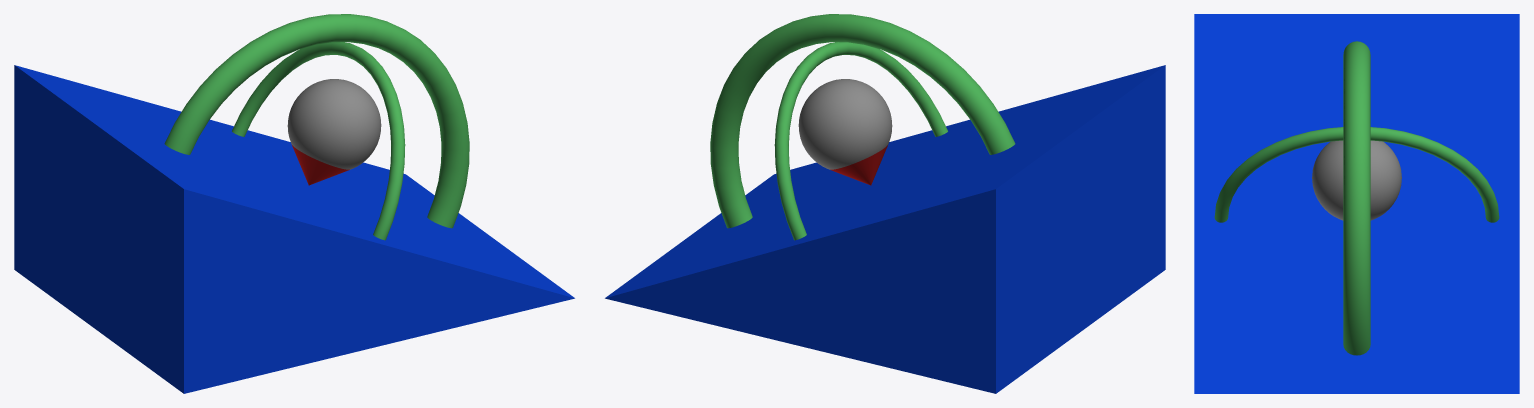
Rendered from Wedge_Torus_Cone_Sphere.glb.
3 views of the same model, side by side, from view 1: azimuth 30°, elevation 25°; view 2: azimuth 150°, elevation 25°; view 3: azimuth 270°, elevation 25° (orthographic). The views are drawn at different scales.
Visible parts, largest first — view 1: Part 8, Part 9, Part 10, Part 11; view 2: Part 8, Part 9, Part 10, Part 11; view 3: Part 8, Part 9, Part 10.
Part boxes in pixels (left/top/right/bottom): Part 8: left=14, top=65, right=574, bottom=393; Part 9: left=164, top=14, right=469, bottom=240; Part 10: left=287, top=79, right=381, bottom=169; Part 11: left=292, top=145, right=349, bottom=185; Part 8: left=605, top=65, right=1165, bottom=393; Part 9: left=710, top=14, right=1015, bottom=240; Part 10: left=798, top=79, right=892, bottom=169; Part 11: left=830, top=145, right=887, bottom=185; Part 8: left=1194, top=14, right=1519, bottom=393; Part 9: left=1214, top=41, right=1499, bottom=355; Part 10: left=1312, top=140, right=1401, bottom=220.
Bounding box in the file's own units: 0.1016 × 0.0649 × 0.0762.
